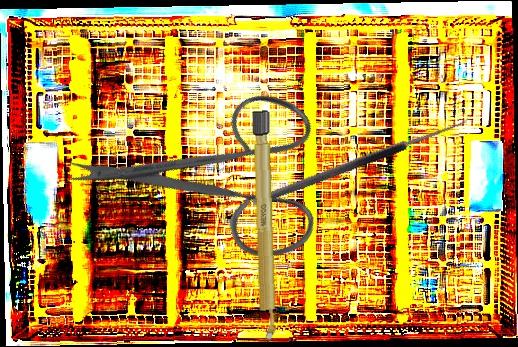Hook Surgical: (247, 105, 471, 208)
Iris Scissors: (57, 31, 367, 336)
Scalpel Handle: (251, 109, 278, 345)
